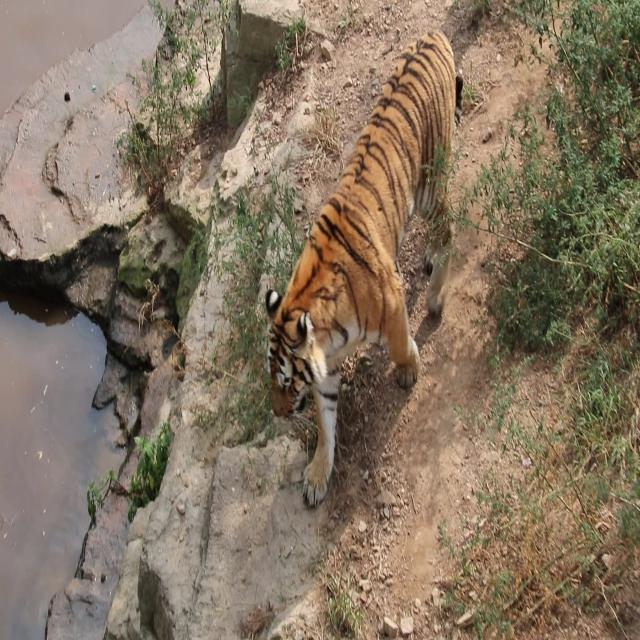Tiger: (265, 24, 468, 556)
